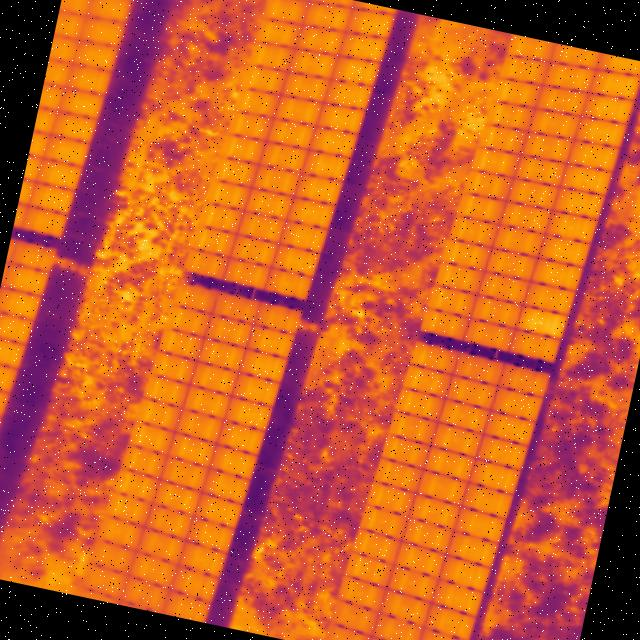Hotspot: (519, 304, 570, 340)
